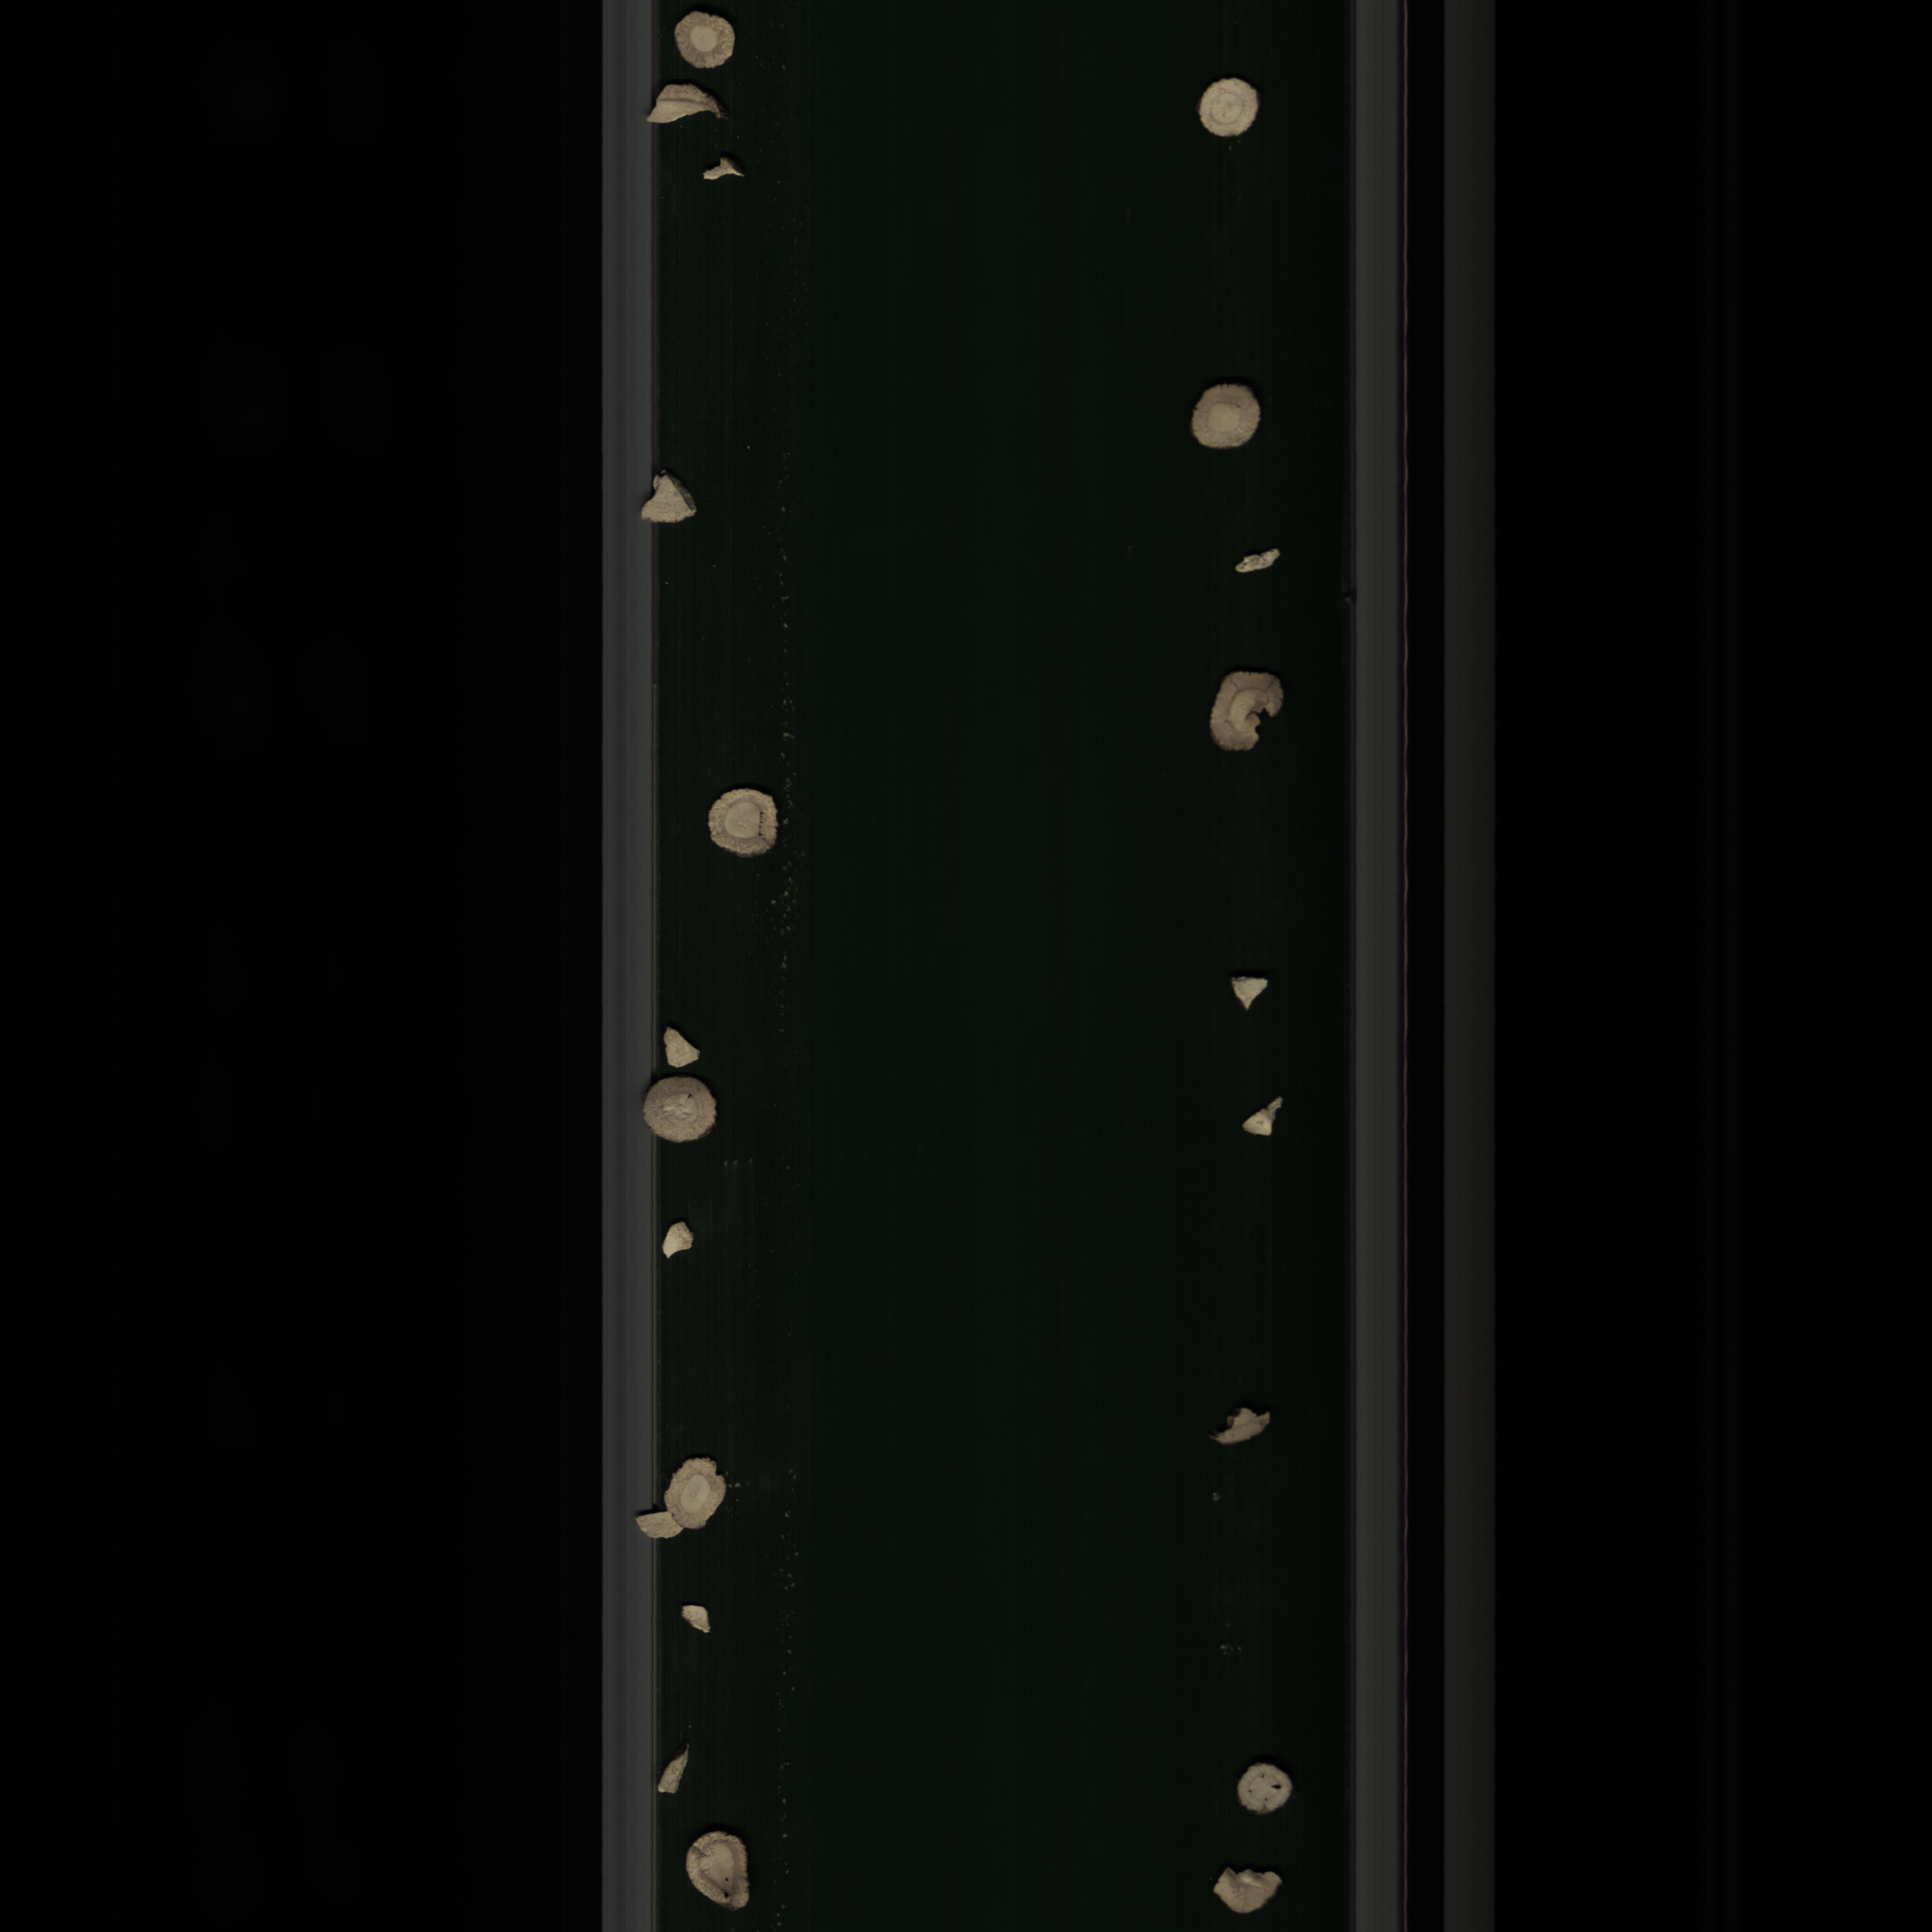bark: (1224, 541, 1295, 577), (699, 159, 748, 195)
debris: (1200, 1858, 1299, 1920), (1214, 1392, 1295, 1461), (637, 467, 708, 543), (1235, 1083, 1293, 1155), (648, 81, 722, 138), (678, 1582, 731, 1660), (1215, 961, 1283, 1021), (651, 1026, 715, 1072), (653, 1744, 697, 1799), (658, 1226, 701, 1263)
hole: (1221, 1746, 1293, 1836)
moldy: (1205, 649, 1290, 766), (667, 18, 743, 76)
